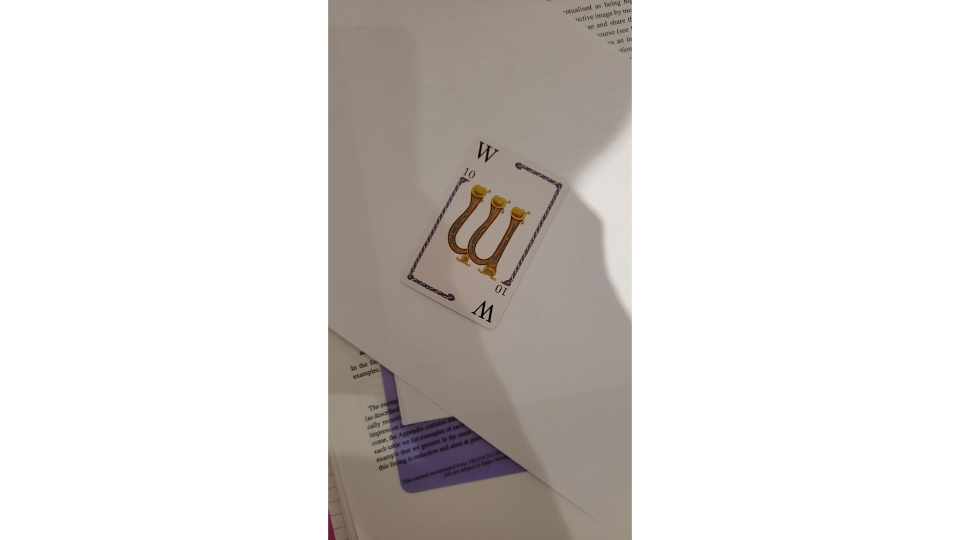W: (397, 134, 571, 331)
